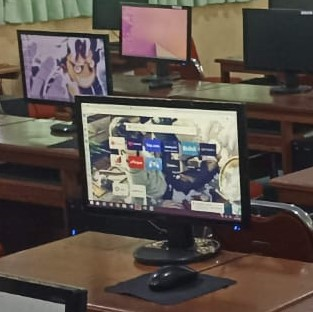monitor: (72, 95, 250, 231), (16, 29, 113, 106), (241, 8, 312, 76), (119, 4, 191, 66)
